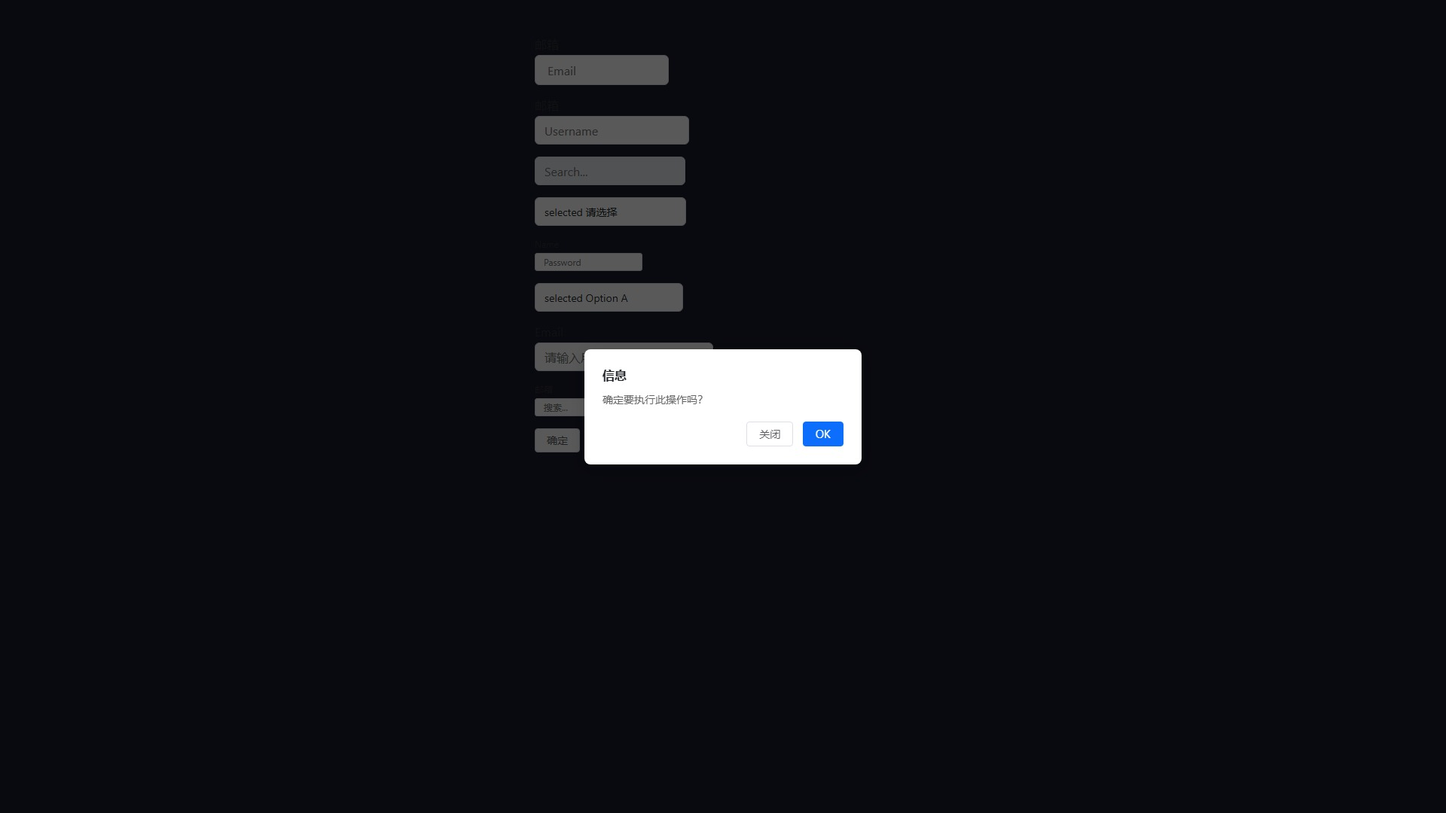button: (747, 421, 793, 446), (535, 428, 580, 452), (803, 421, 844, 446)
input: (535, 343, 713, 371), (535, 116, 689, 145), (535, 157, 685, 185), (535, 55, 669, 85), (535, 398, 684, 416), (535, 253, 642, 271)
modal: (0, 0, 1446, 813)
select: (535, 197, 686, 226), (535, 283, 683, 312)
